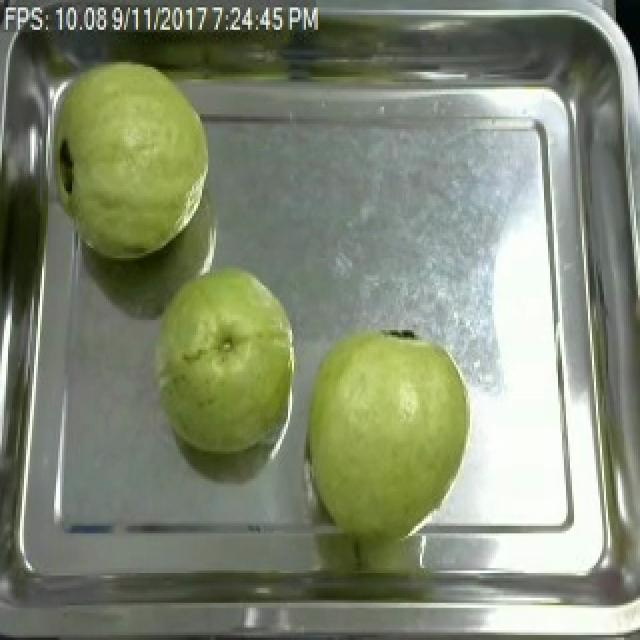Fruit: (284, 317, 480, 538), (38, 49, 220, 270), (136, 255, 310, 464)
